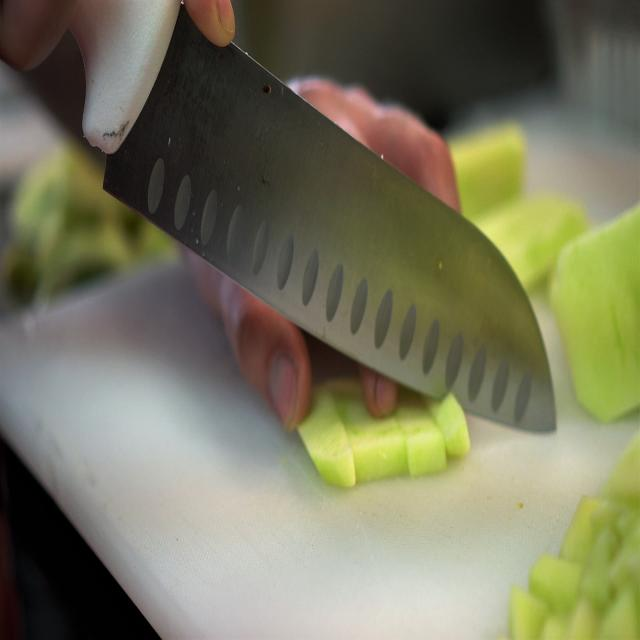knife: (6, 0, 558, 437)
